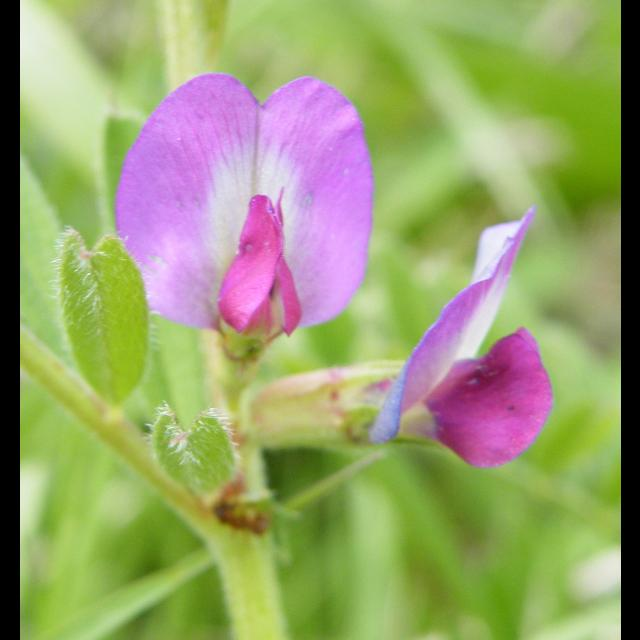Flower: (112, 62, 384, 352), (371, 202, 557, 522)
